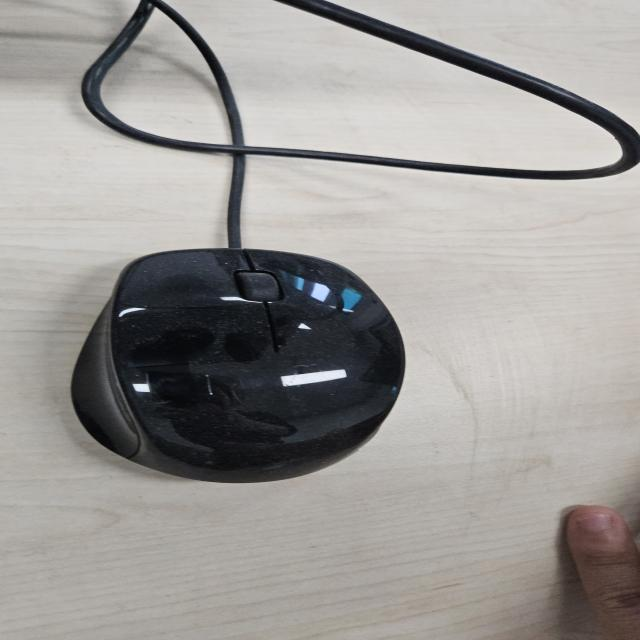Mouse: (68, 246, 409, 484)
